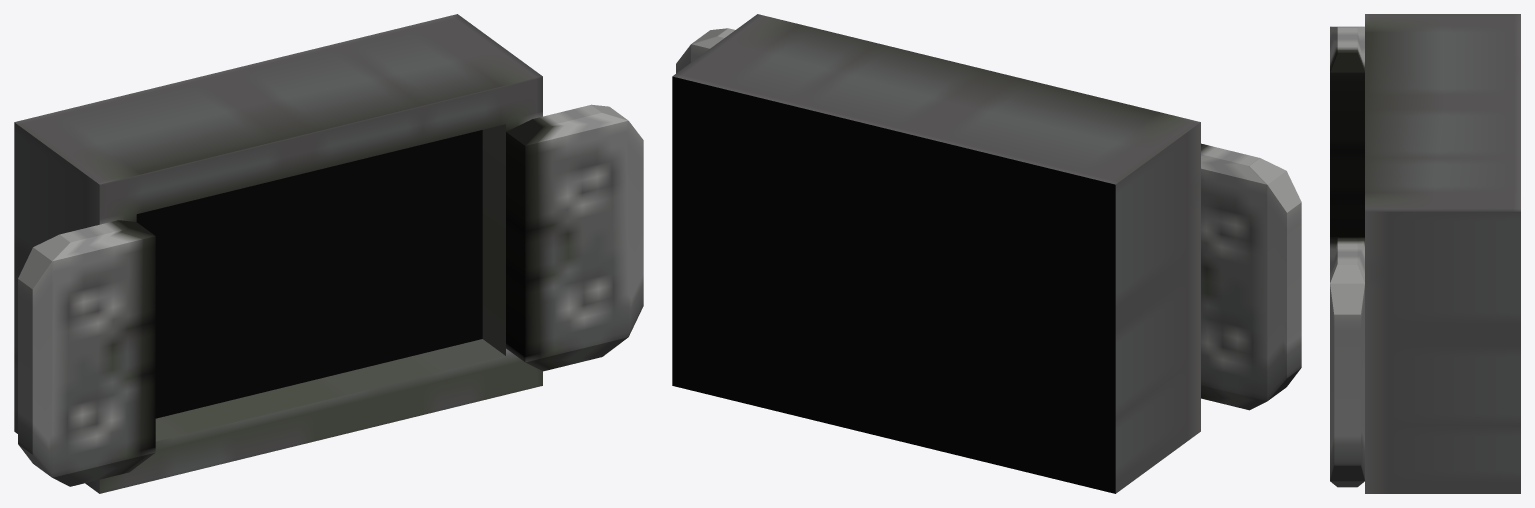
File: Poly_Small_Window_04.obj
The picture shows the model from 3 angles, left to right: view 1: azimuth 30°, elevation 25°; view 2: azimuth 150°, elevation 25°; view 3: azimuth 270°, elevation 25°; orthographic projection. The views are drawn at different scales.
Parts seen in each view (by area): view 1: Cube_Cube.001, Cube; view 2: Cube_Cube.001, Cube; view 3: Cube_Cube.001, Cube.
Boxes of the visible parts, x1,y1,x2,y2 form: Cube_Cube.001: (14, 14, 542, 493); Cube: (18, 104, 643, 486); Cube_Cube.001: (672, 14, 1200, 493); Cube: (676, 28, 1301, 410); Cube_Cube.001: (1365, 14, 1520, 493); Cube: (1330, 26, 1364, 487).
Bounding box in the file's own units: 1.24 × 0.6 × 0.3675.
1 material, 1 textured.
